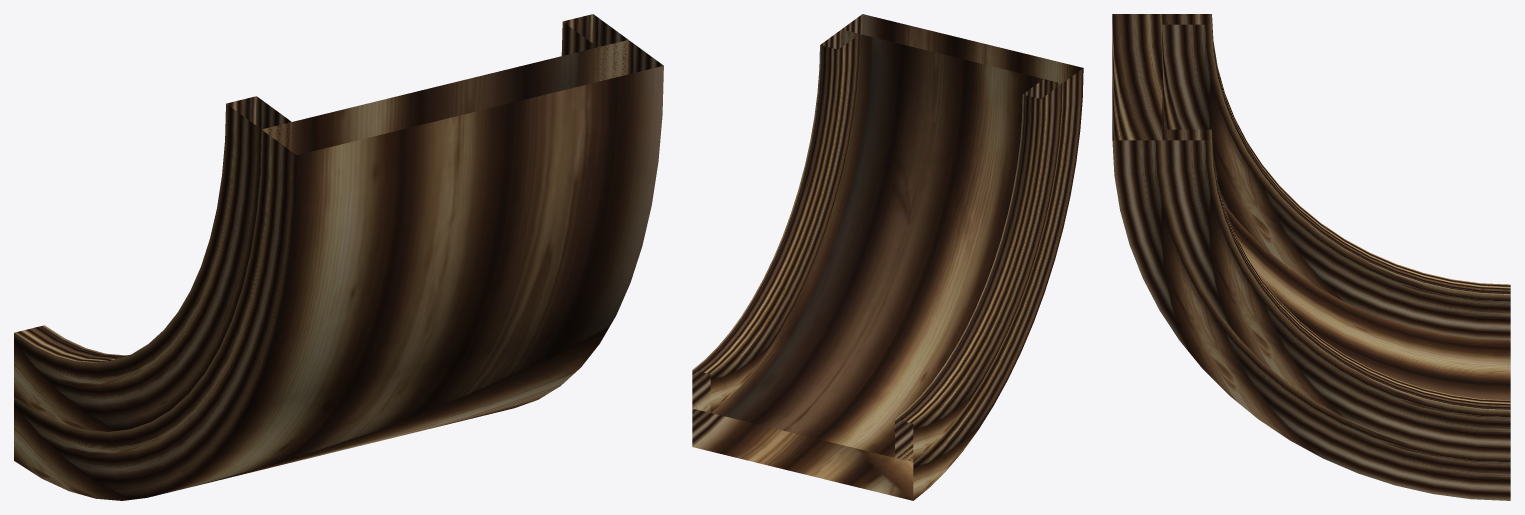
The model's file is B - Face Change.obj.
3 views of the same model, side by side, from view 1: azimuth 30°, elevation 25°; view 2: azimuth 150°, elevation 25°; view 3: azimuth 270°, elevation 25° (orthographic). The views are drawn at different scales.
Visible parts, largest first — view 1: polySurface14; view 2: polySurface14; view 3: polySurface14.
Part boxes in pixels (<box>): polySurface14: <box>14,14,663,500</box>; polySurface14: <box>692,14,1083,500</box>; polySurface14: <box>1112,14,1510,500</box>.
Size of the model in its own units: 420 by 560 by 560.
